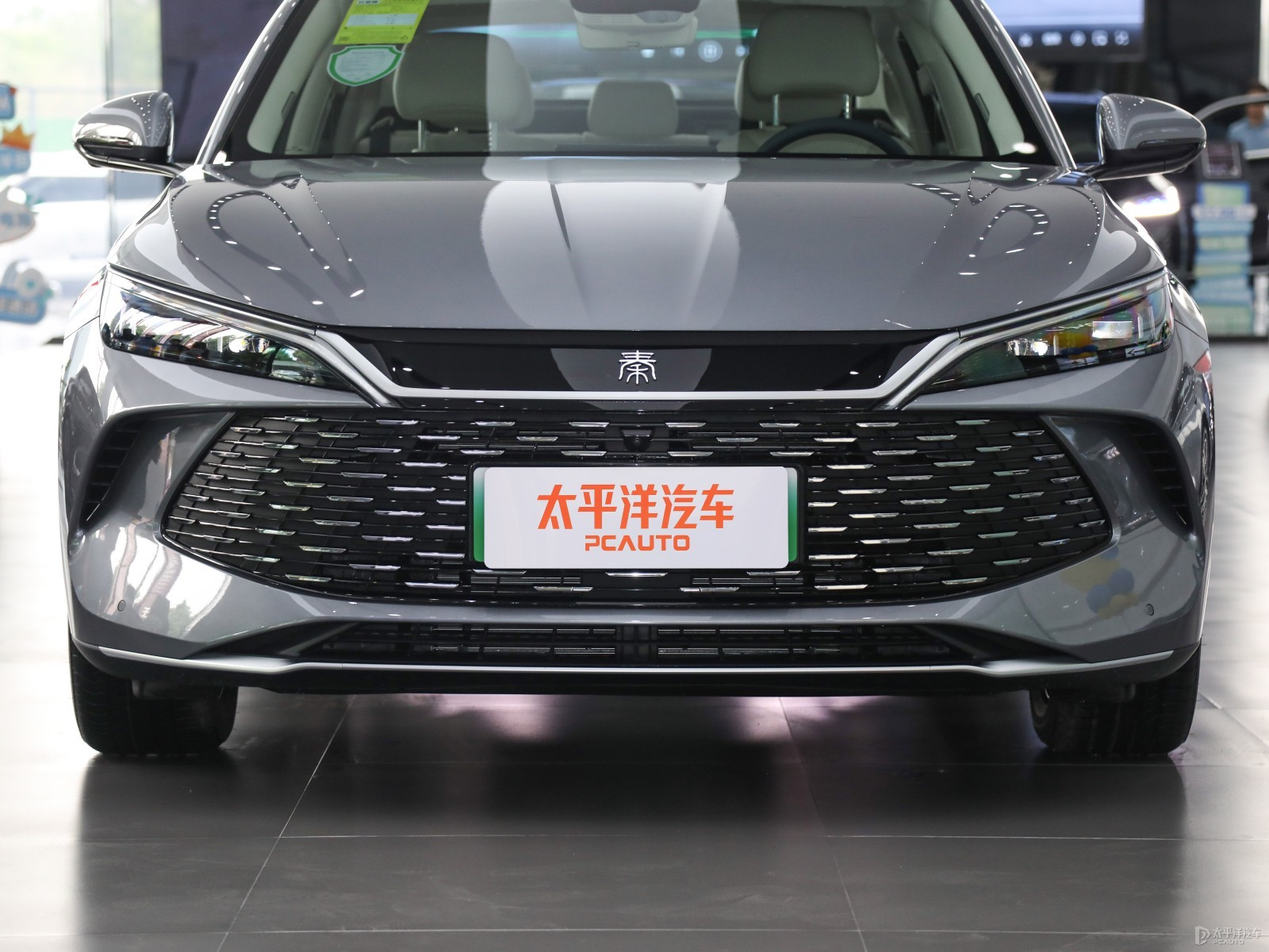BYD Qin: (619, 351, 656, 384)
